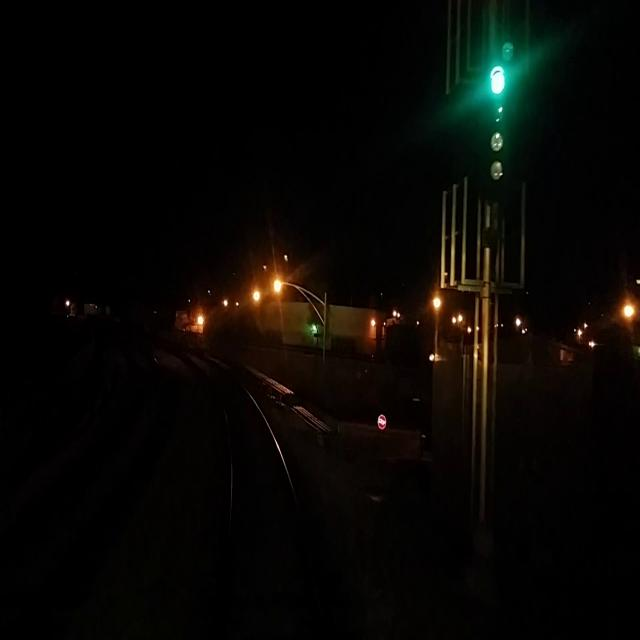rail-track: (171, 341, 299, 639)
